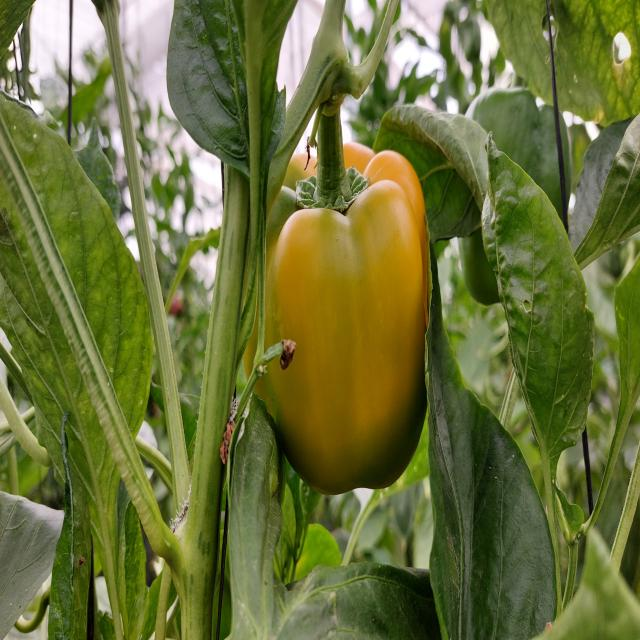GreenishYellow--Can-be-Harvested: (217, 86, 461, 504)
